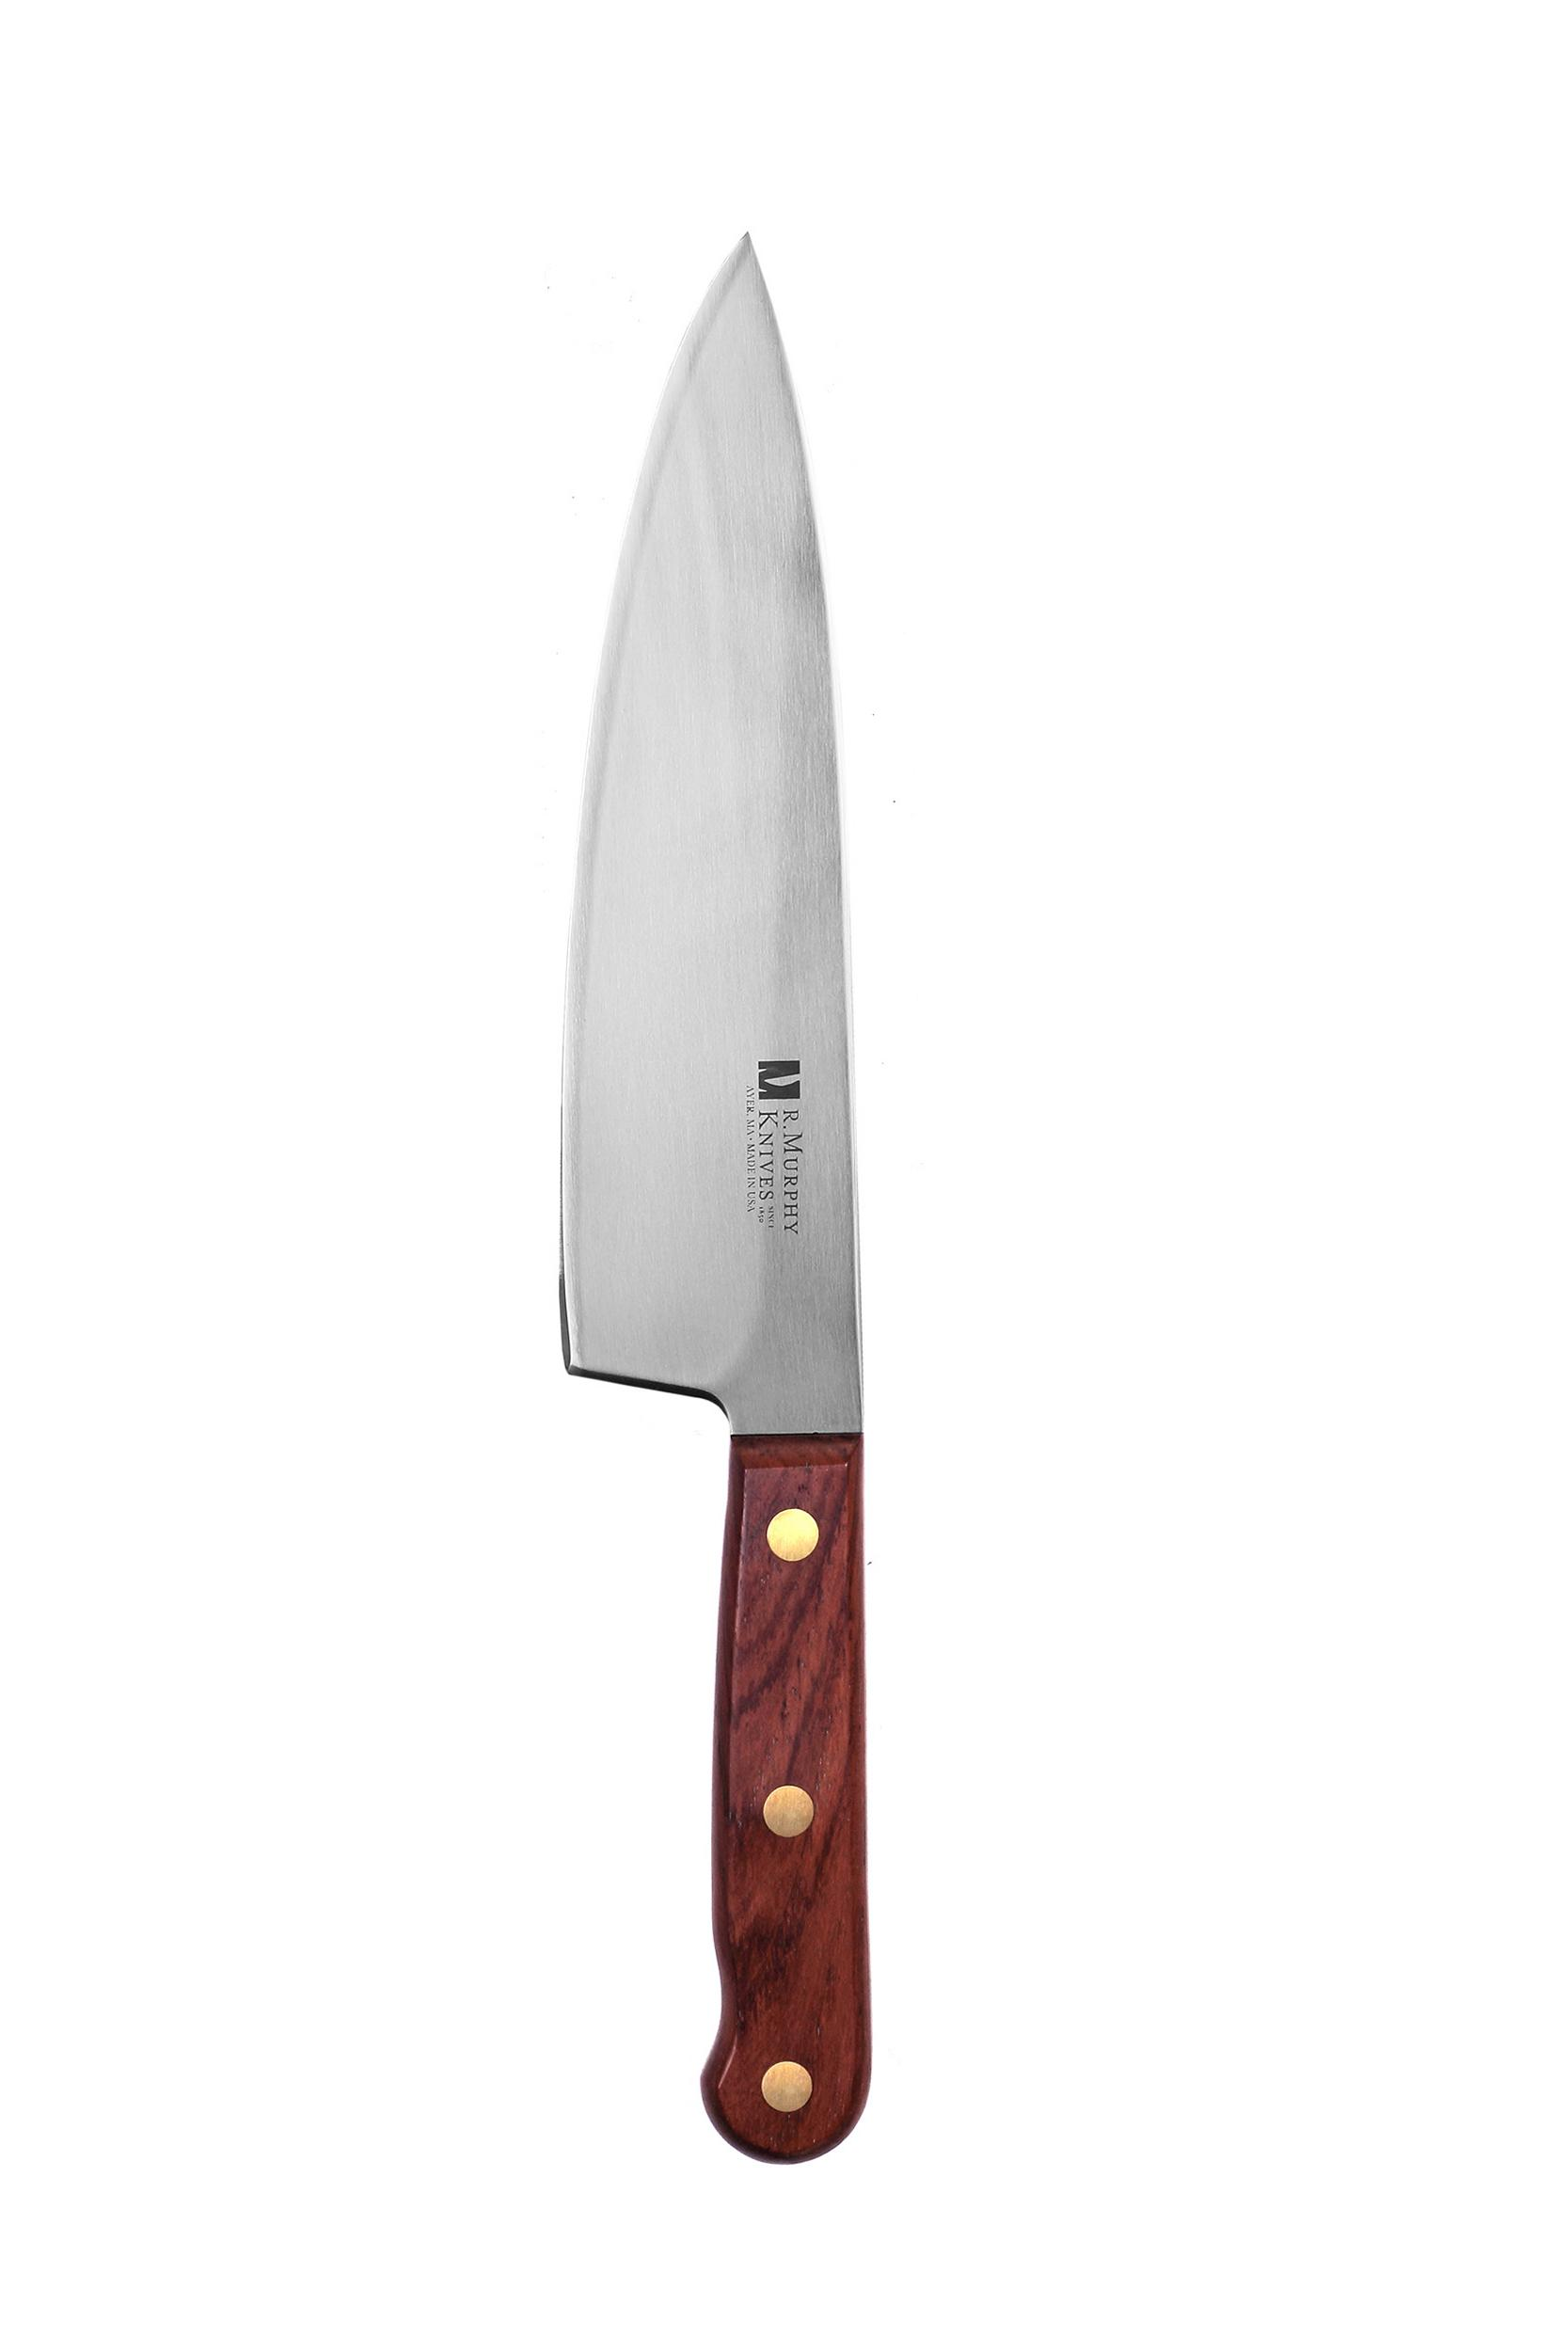knife: (556, 234, 880, 2166)
